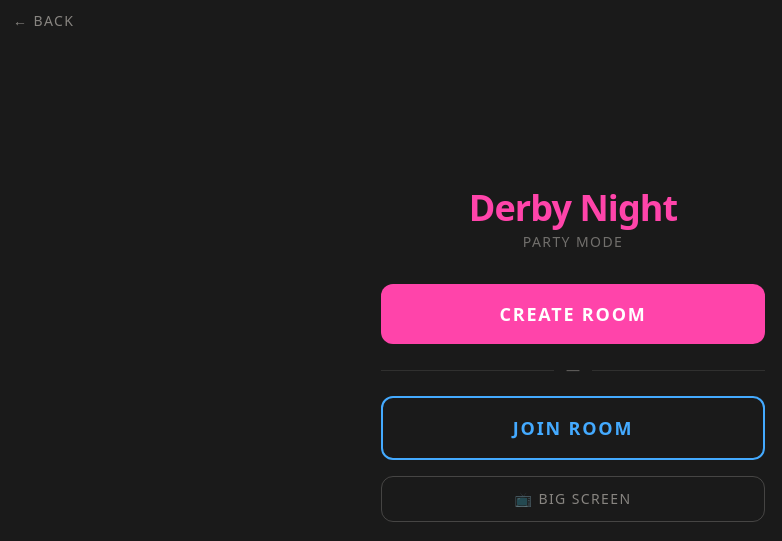
Test case: DerbyLobbyScreen — Join Room › shows the code input after clicking Join Room
Click the button with test id "join-room-btn" at (573, 428), box [381,396,765,460]
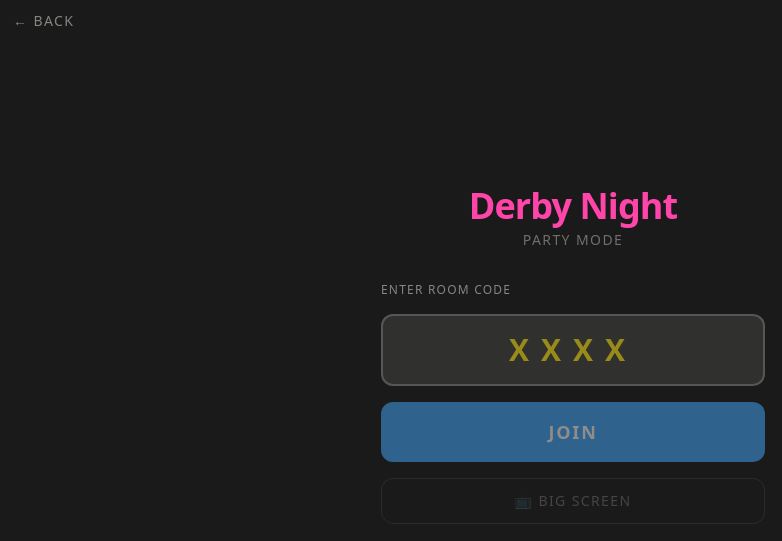
Check: the field with test id "room-code-input" is shown, box [381,314,765,386]
